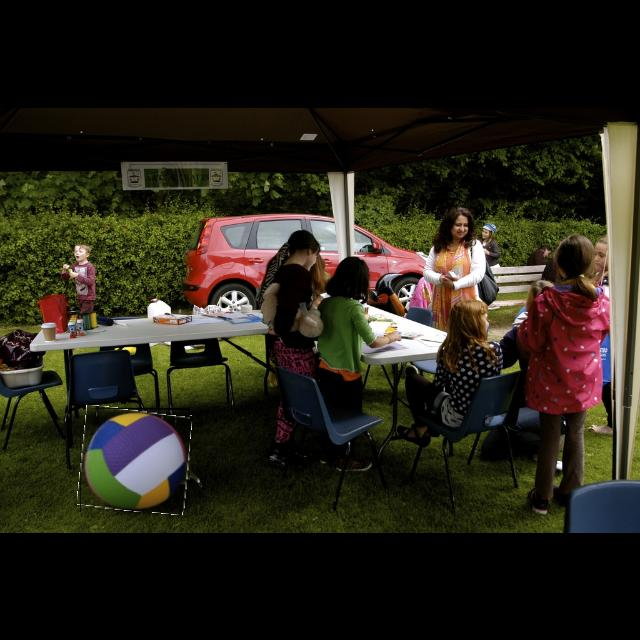Football: (80, 408, 190, 512)
